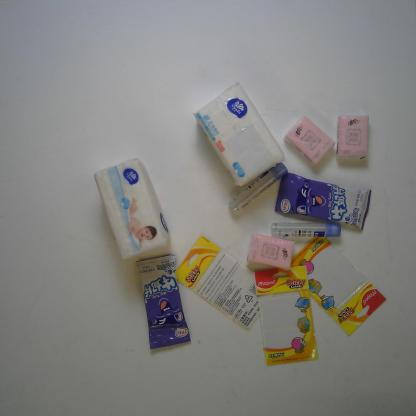Candy: (274, 172, 372, 231), (135, 254, 191, 350)
Stationery: (289, 237, 387, 336), (175, 234, 259, 330), (254, 266, 320, 366), (228, 162, 288, 212), (270, 221, 341, 238)
Tissue: (192, 82, 286, 187), (93, 157, 171, 260), (283, 115, 336, 165), (247, 232, 296, 270), (335, 114, 370, 158)
